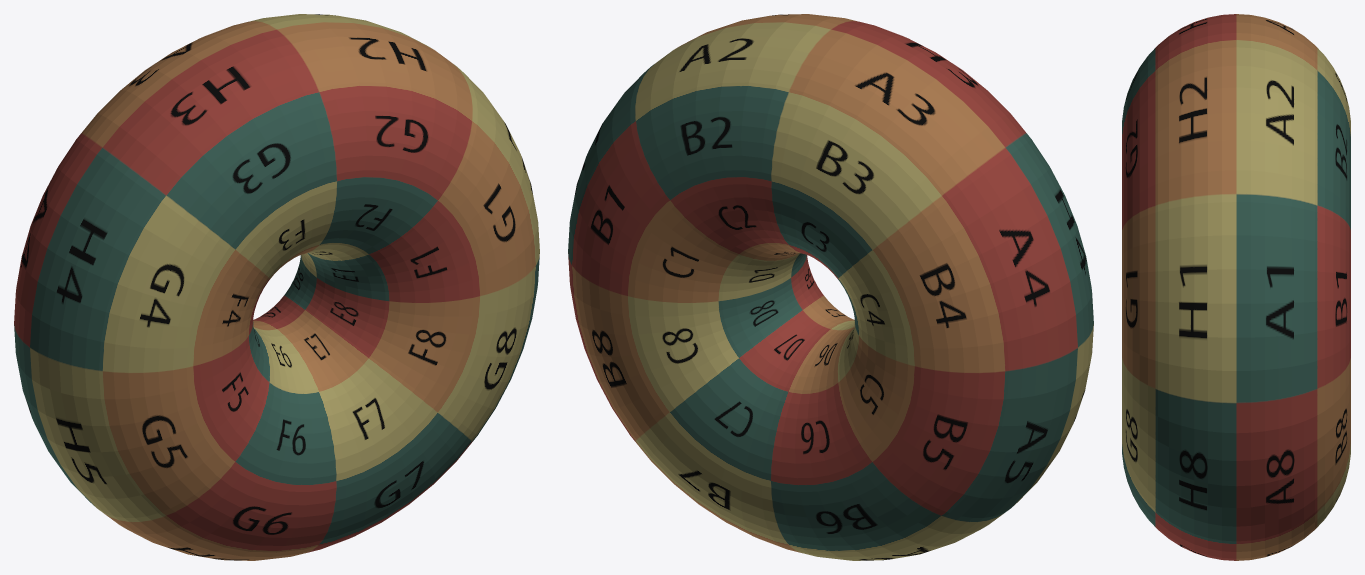
Rendered from texture_torus_R3_r25.glb.
3 renders of one model, left to right at view 1: azimuth 30°, elevation 25°; view 2: azimuth 150°, elevation 25°; view 3: azimuth 270°, elevation 25°, orthographic. The views are drawn at different scales.
Parts seen in each view (by area): view 1: world; view 2: world; view 3: world.
Boxes of the visible parts, <box> form: world: <box>14,14,539,560</box>; world: <box>568,14,1093,560</box>; world: <box>1122,14,1350,560</box>.
Bounding box in the file's own units: 20.67 × 20.63 × 8.65.
1 material, 1 textured.
